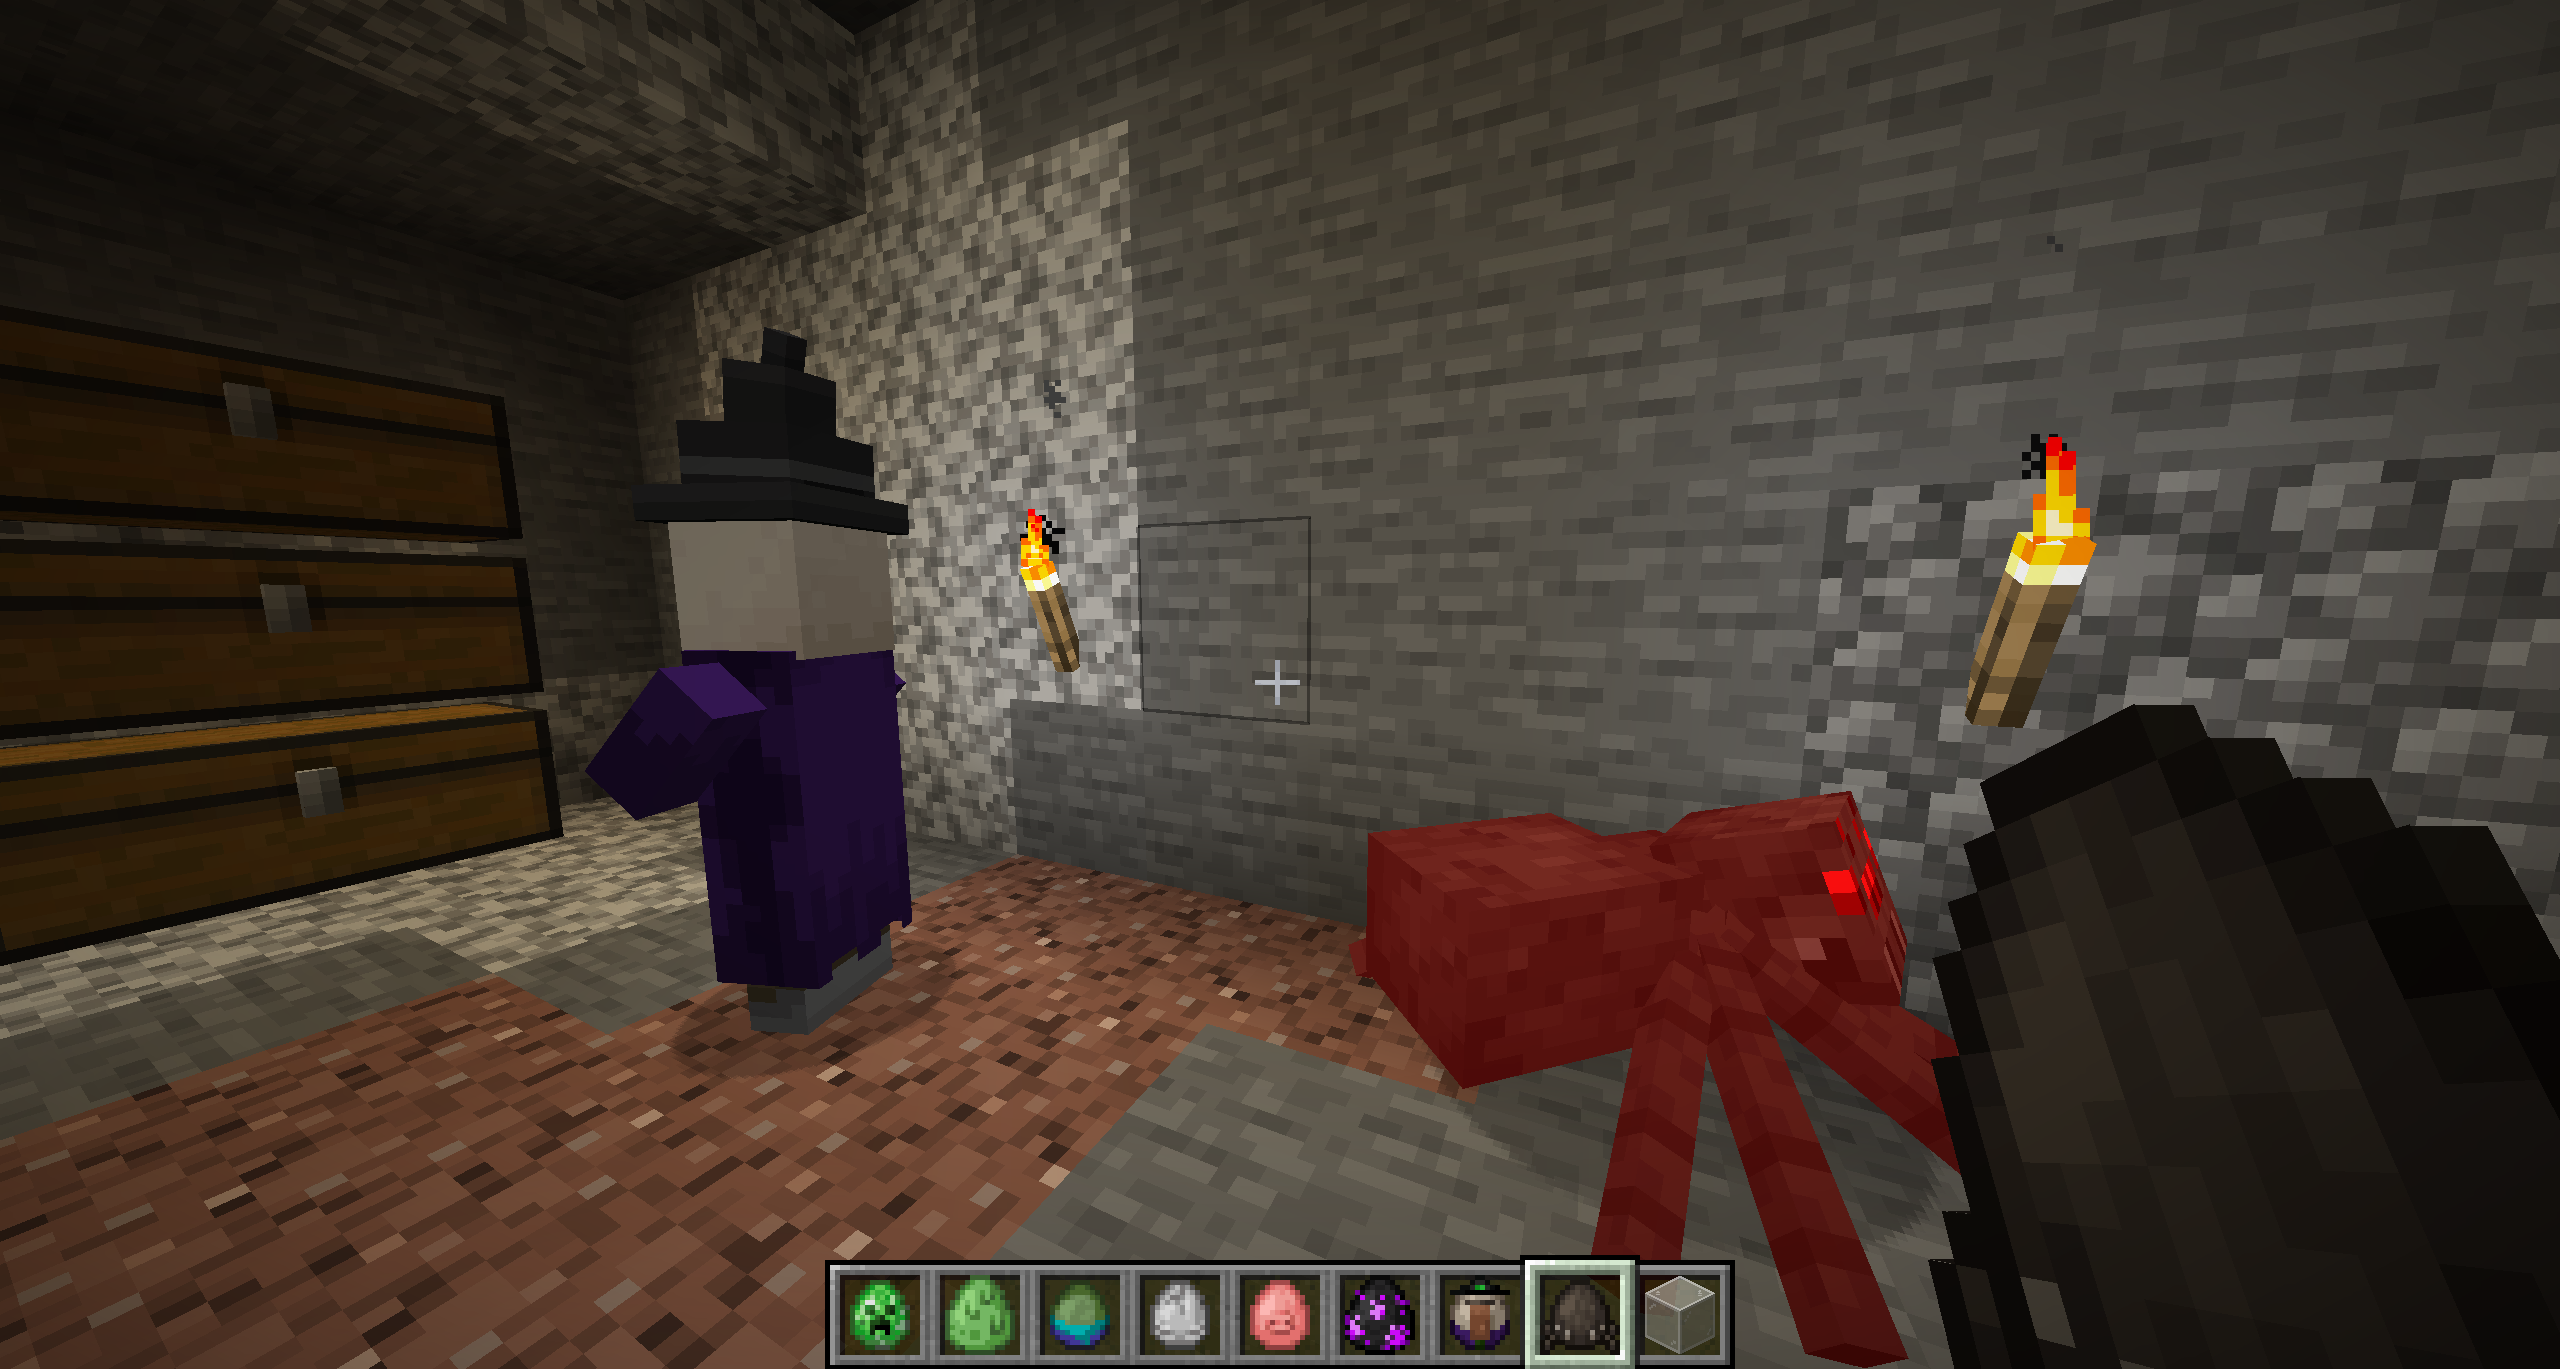araignees: (1331, 763, 1971, 1244)
sorcieres: (635, 350, 916, 1027)
